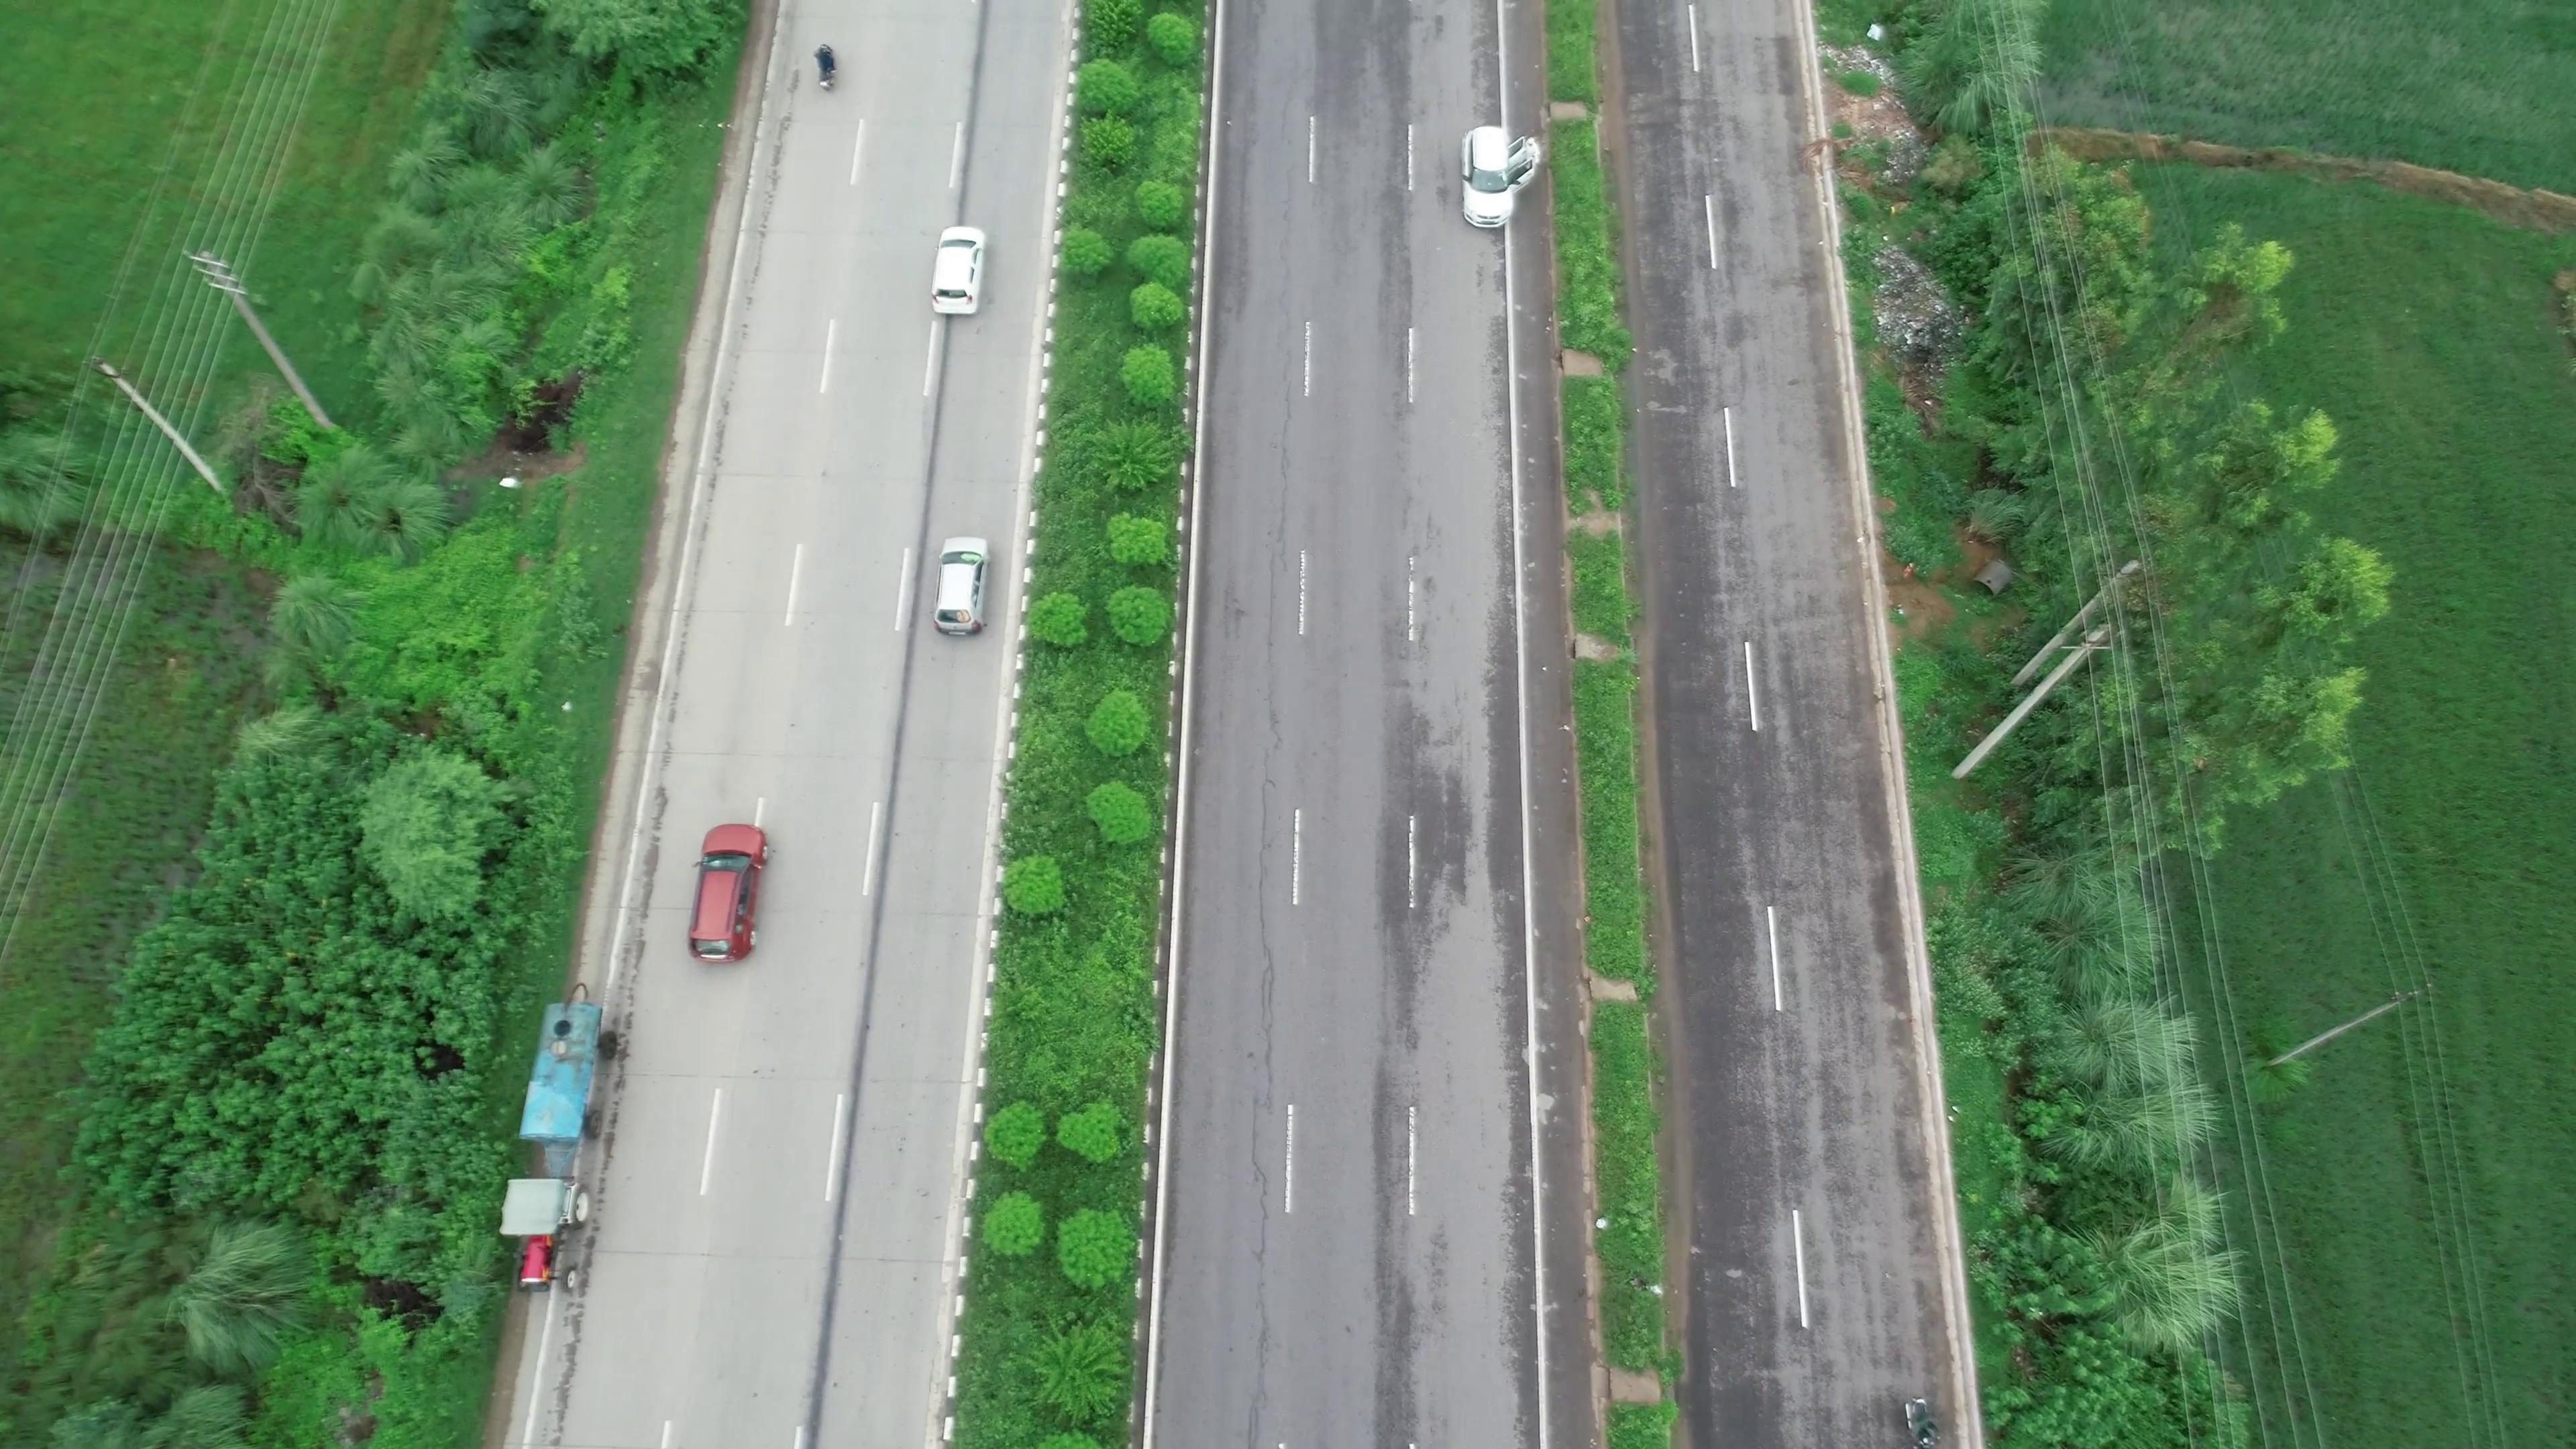Longitudinal_cracks: (1228, 681, 1293, 1440), (1251, 18, 1318, 678)
